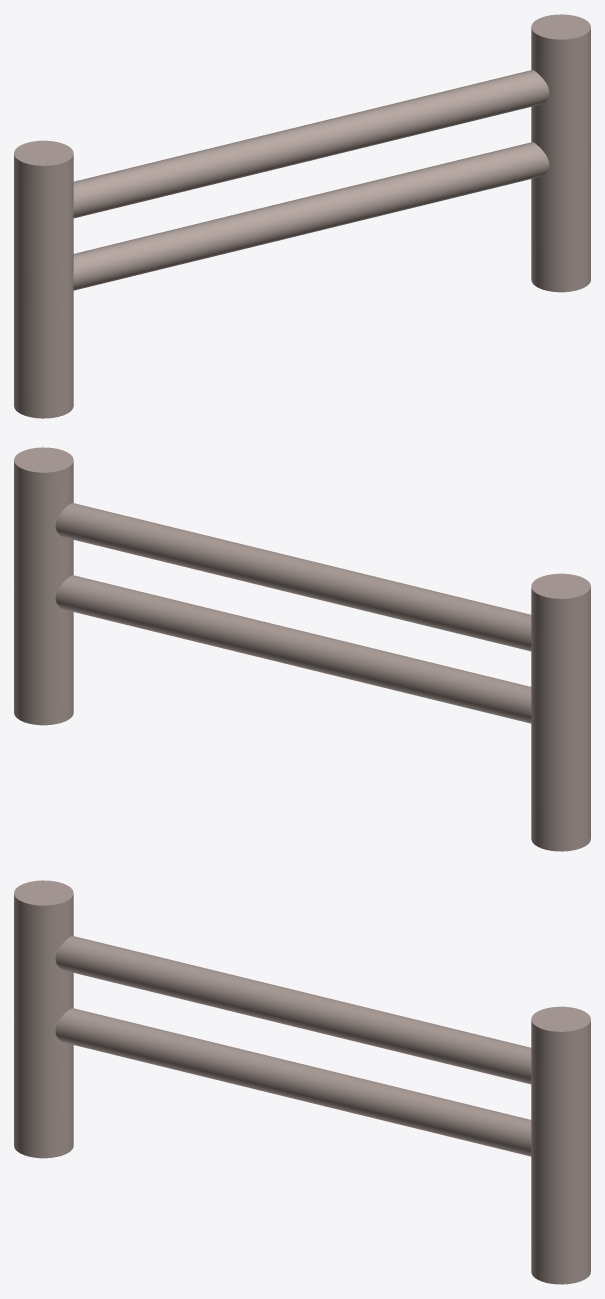
File: 1006_fence_1.glb
The picture shows the model from 3 angles, top to bottom: view 1: azimuth 30°, elevation 25°; view 2: azimuth 150°, elevation 25°; view 3: azimuth 330°, elevation 25°; orthographic projection.
Visible parts, largest first — view 1: Body; view 2: Body; view 3: Body.
Boxes of the visible parts, x1,y1,x2,y2 form: Body: [14, 14, 590, 418]; Body: [14, 447, 590, 851]; Body: [14, 880, 590, 1284].
Bounding box in the file's own units: 1.65 × 0.7 × 0.15.
